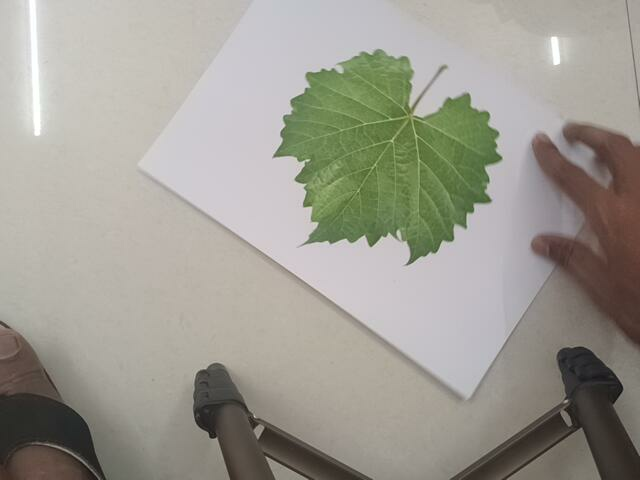Grape_Healthy: (274, 43, 505, 269)
